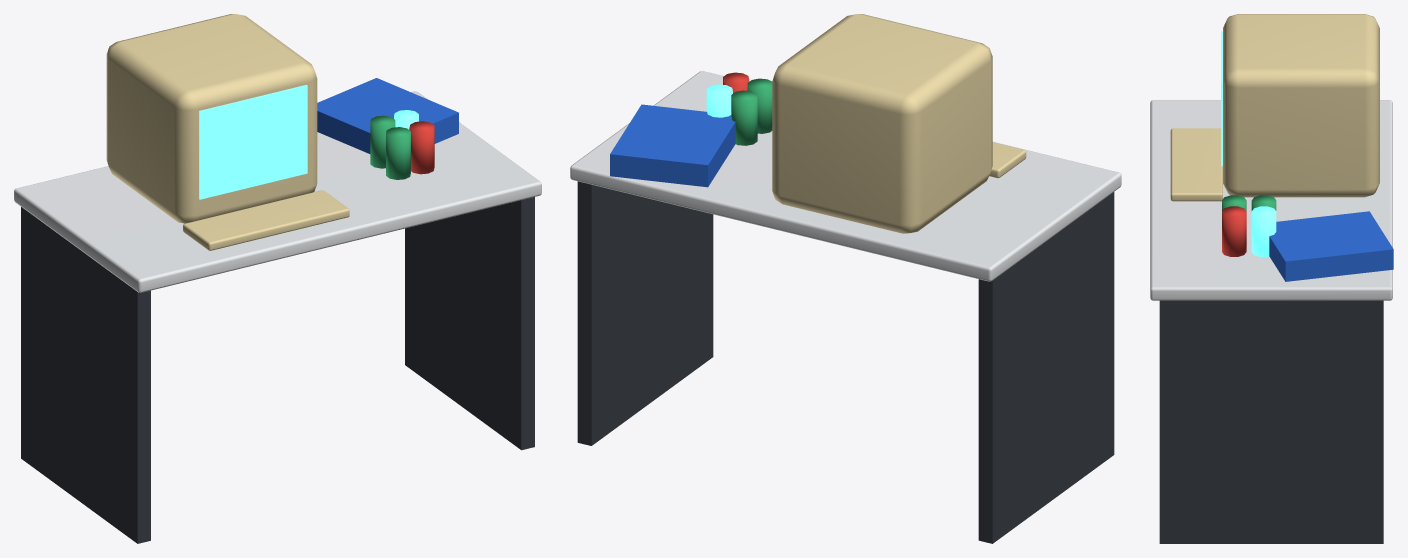
Rendered from SysadminDesk.fbx.
The picture shows the model from 3 angles, left to right: view 1: azimuth 30°, elevation 25°; view 2: azimuth 150°, elevation 25°; view 3: azimuth 270°, elevation 25°; orthographic projection. The views are drawn at different scales.
Visible parts, largest first — view 1: SysadminDeskBody; view 2: SysadminDeskBody; view 3: SysadminDeskBody.
Part boxes in pixels (x1,y1,x2,y2): SysadminDeskBody: [14, 14, 541, 543]; SysadminDeskBody: [570, 14, 1121, 543]; SysadminDeskBody: [1150, 14, 1393, 543].
Size of the model in its own units: 1.2 by 1.14 by 0.6522.
